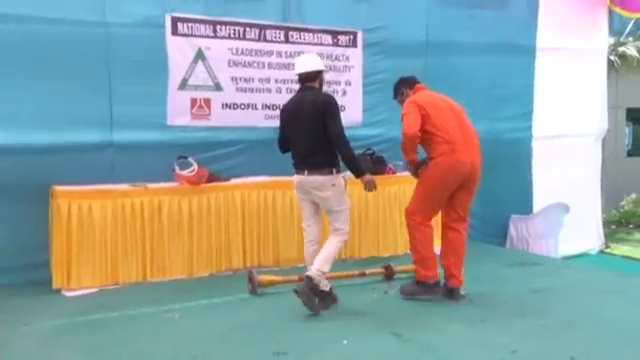helmet: (290, 53, 329, 76)
helmet_off: (392, 74, 421, 102)
helmet_on: (290, 52, 330, 93)
person: (275, 52, 376, 315), (390, 75, 486, 300)
